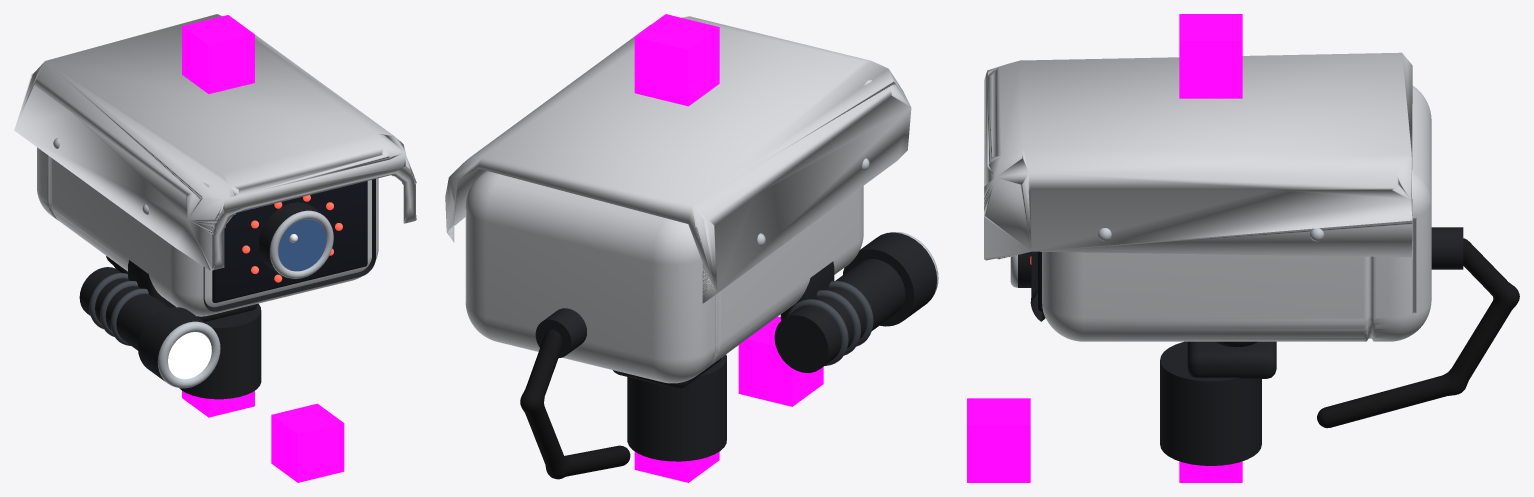
Rendered from CameraHead.glb.
3 views of the same model, side by side, from view 1: azimuth 30°, elevation 25°; view 2: azimuth 150°, elevation 25°; view 3: azimuth 270°, elevation 25° (orthographic). The views are drawn at different scales.
Parts seen in each view (by area): view 1: SunShield, Housing, FrontGlass, _Front, _Up, NeckJoint, FlashBody, Lens, FlashHead, FlashRing, FlashLens, LensRing (+7 smaller); view 2: SunShield, Housing, NeckJoint, FlashBody, _Up, Cable, _Front, FlashHead, CableGland, _Root, Grip0, Clamp (+2 smaller); view 3: SunShield, Housing, NeckJoint, Cable, _Front, _Up, MountBase, CableGland, _Root.
Boxes of the visible parts, box(x1,y1,x2,y2) form: SunShield: box(14, 14, 416, 270); Housing: box(37, 147, 378, 316); FrontGlass: box(212, 181, 367, 302); _Front: box(271, 403, 344, 482); _Up: box(182, 15, 254, 93); NeckJoint: box(179, 303, 261, 399); FlashBody: box(79, 267, 169, 350); Lens: box(278, 219, 326, 271); FlashHead: box(138, 307, 207, 381); FlashRing: box(157, 321, 220, 388); FlashLens: box(168, 332, 211, 379); LensRing: box(270, 210, 333, 278); SunShield: box(445, 16, 911, 303); Housing: box(465, 171, 863, 383); NeckJoint: box(627, 354, 726, 461); FlashBody: box(774, 259, 905, 372); _Up: box(634, 14, 719, 106); Cable: box(520, 329, 630, 479); _Front: box(738, 316, 823, 406); FlashHead: box(843, 232, 937, 326); CableGland: box(535, 308, 586, 357); _Root: box(634, 451, 719, 482); Grip0: box(787, 299, 848, 365); Clamp: box(780, 261, 834, 320); SunShield: box(984, 52, 1412, 260); Housing: box(1042, 86, 1431, 341); NeckJoint: box(1160, 341, 1261, 465); Cable: box(1317, 238, 1519, 428); _Front: box(967, 398, 1030, 482); _Up: box(1179, 14, 1242, 98); MountBase: box(1187, 341, 1276, 378); CableGland: box(1431, 227, 1463, 269); _Root: box(1179, 461, 1242, 482).
Bounding box in the file's own units: 1.7 × 2.3 × 2.61.
